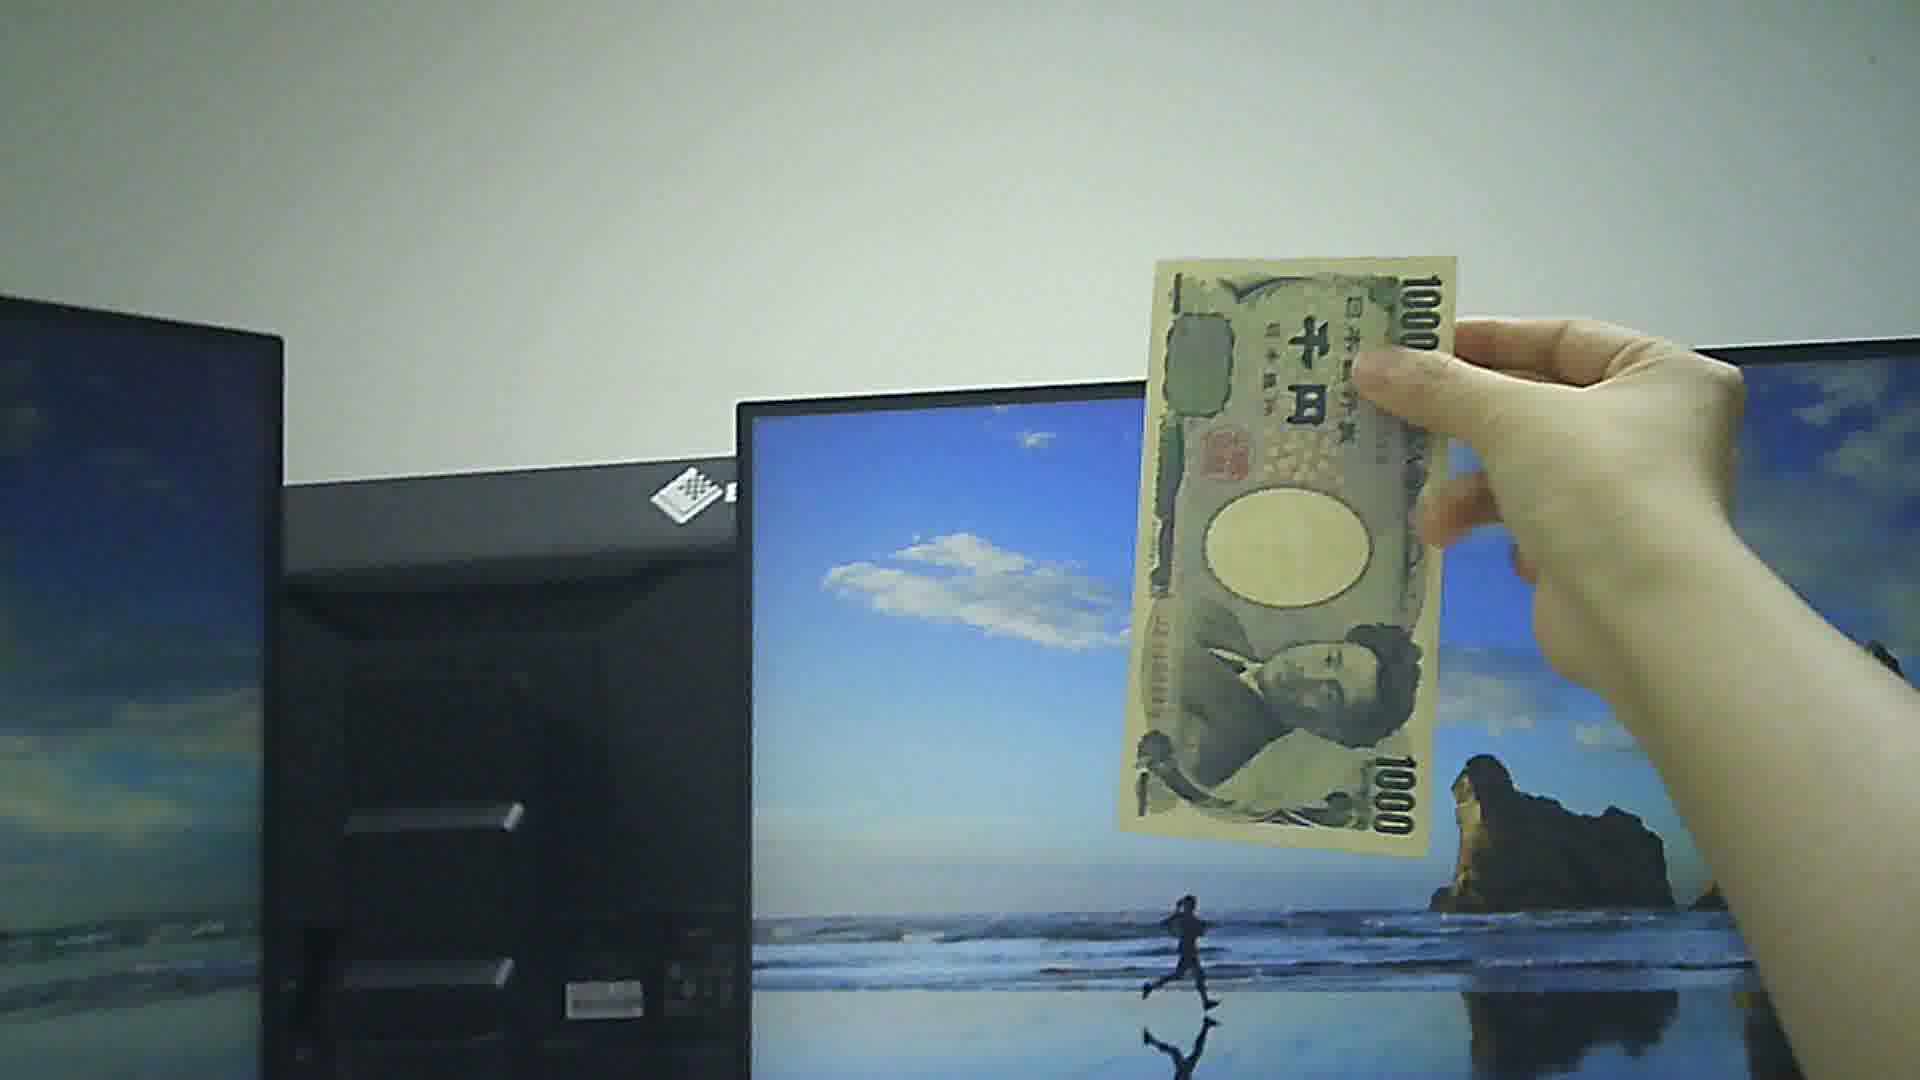1,000 Yen: (1146, 247, 1455, 866)
